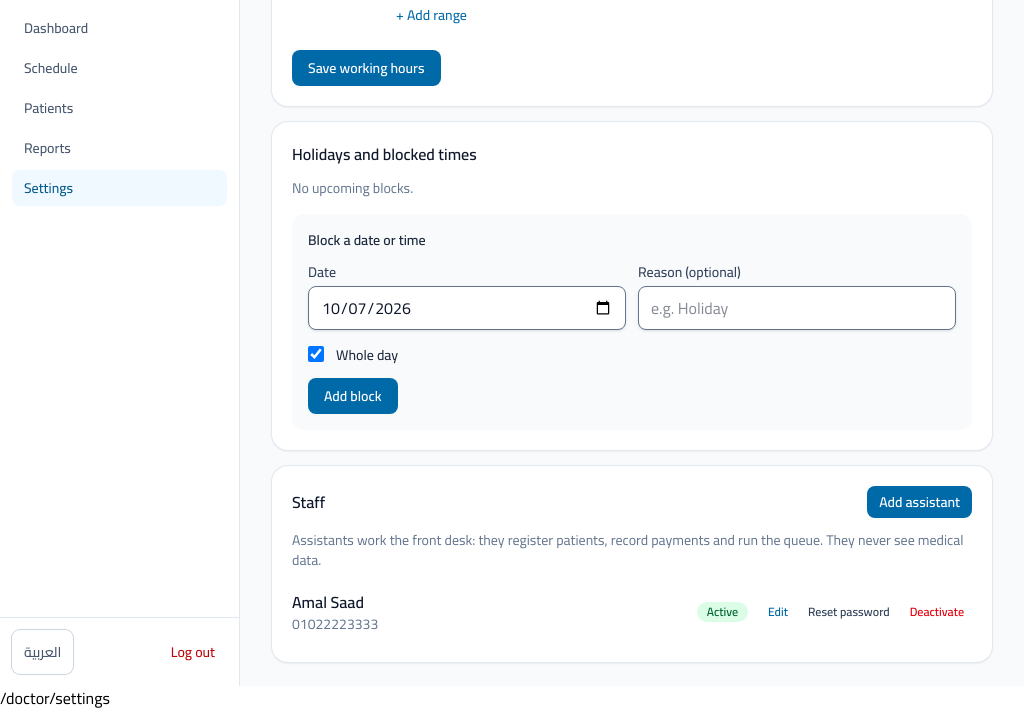
Test: Settings: staff › resets the password and shows the new one once
(page scrolled)
Click the button with aria-label "Reset password of Amal Saad" at (849, 612), box [800,600,898,624]
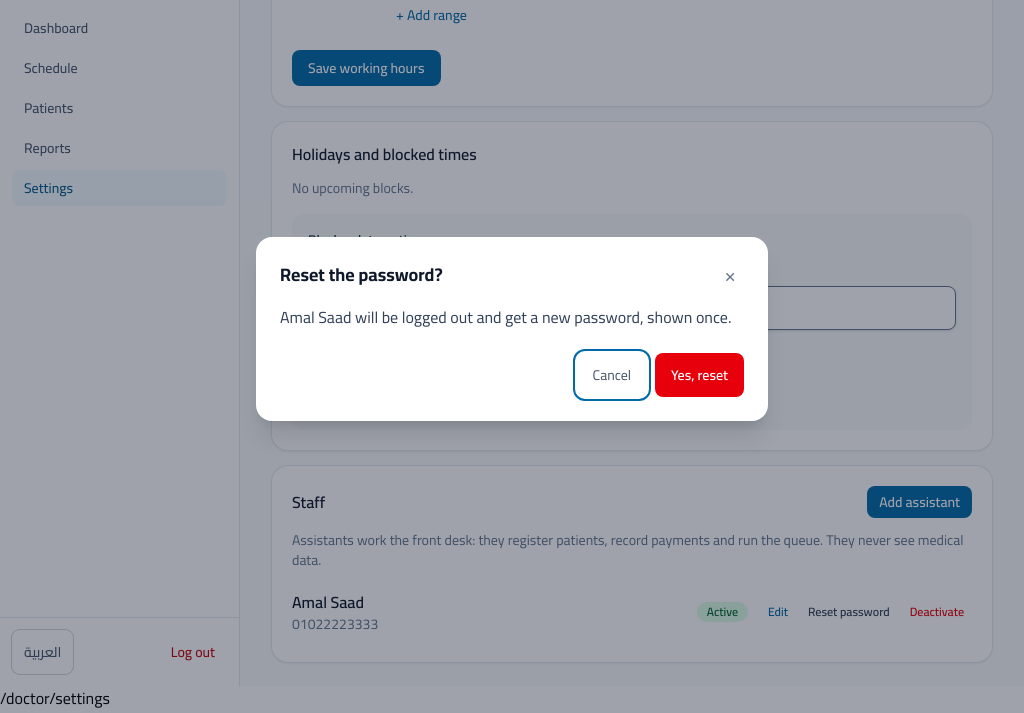
Click the button "Yes, reset" at (700, 375), box [655,353,744,397]
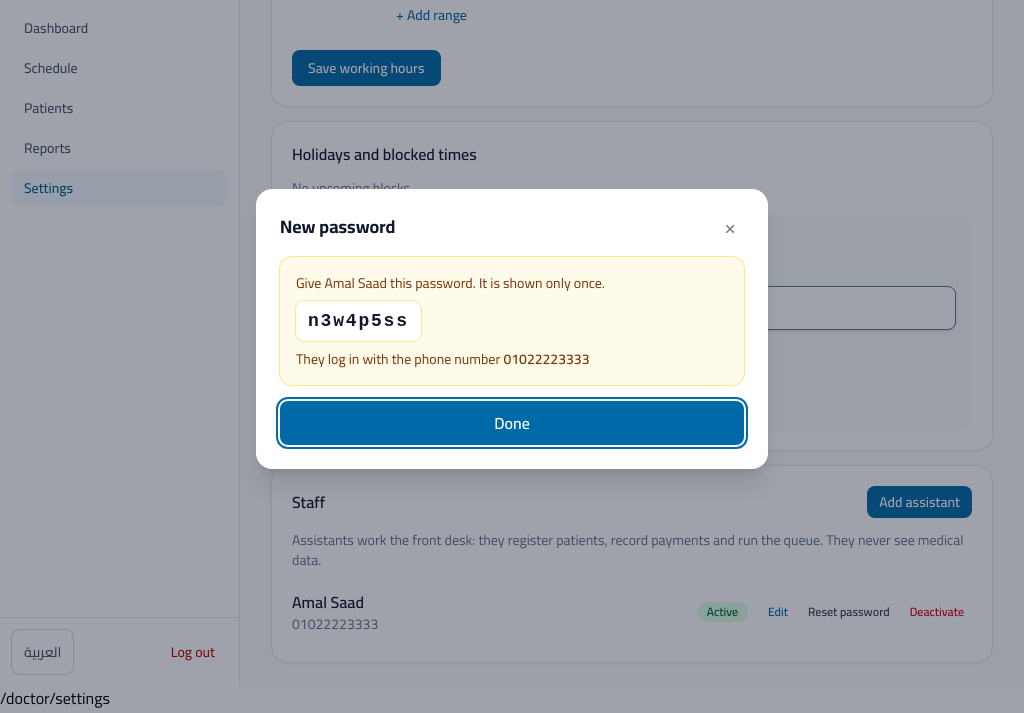
Expected: the text with test id "staff-password" reads "n3w4p5ss", [308,311,409,331]
